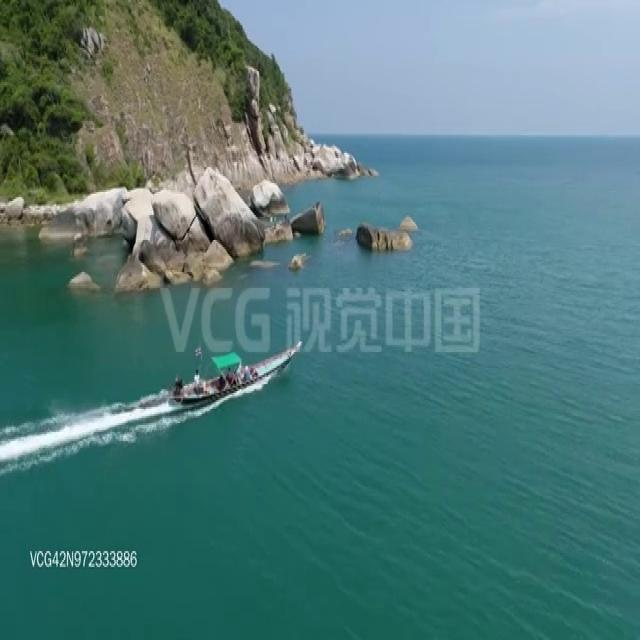fishing boat: (168, 339, 306, 405)
